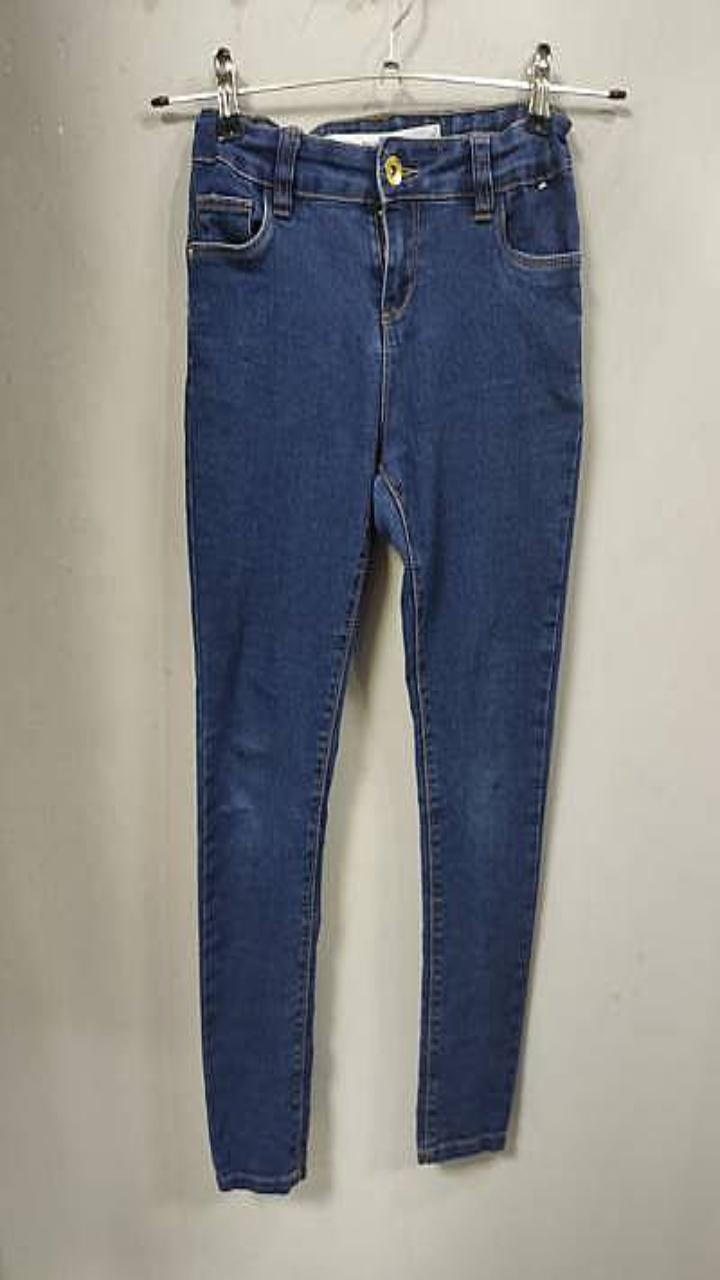Jeans: (185, 101, 582, 1192)
